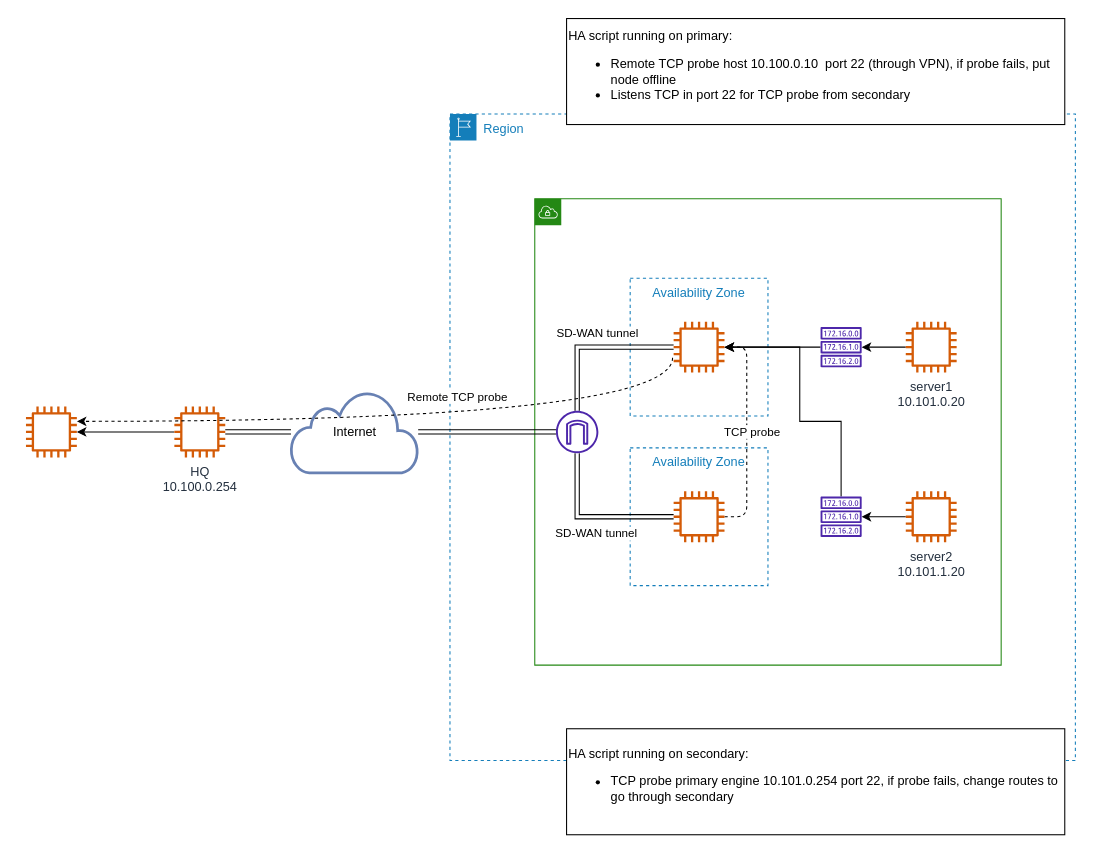
This 1094x853 diagram has some shape labels left out. The shapes that lost their labels are listed below. From the top down, each one's box as (x1, y1, x2, y2) in pixels, then its label:
(673, 321, 724, 372): primary 10.101.0.254
(25, 406, 76, 457): client 10.100.0.10
(534, 198, 1001, 665): VPC
(673, 491, 724, 542): secondary 10.101.1.254
